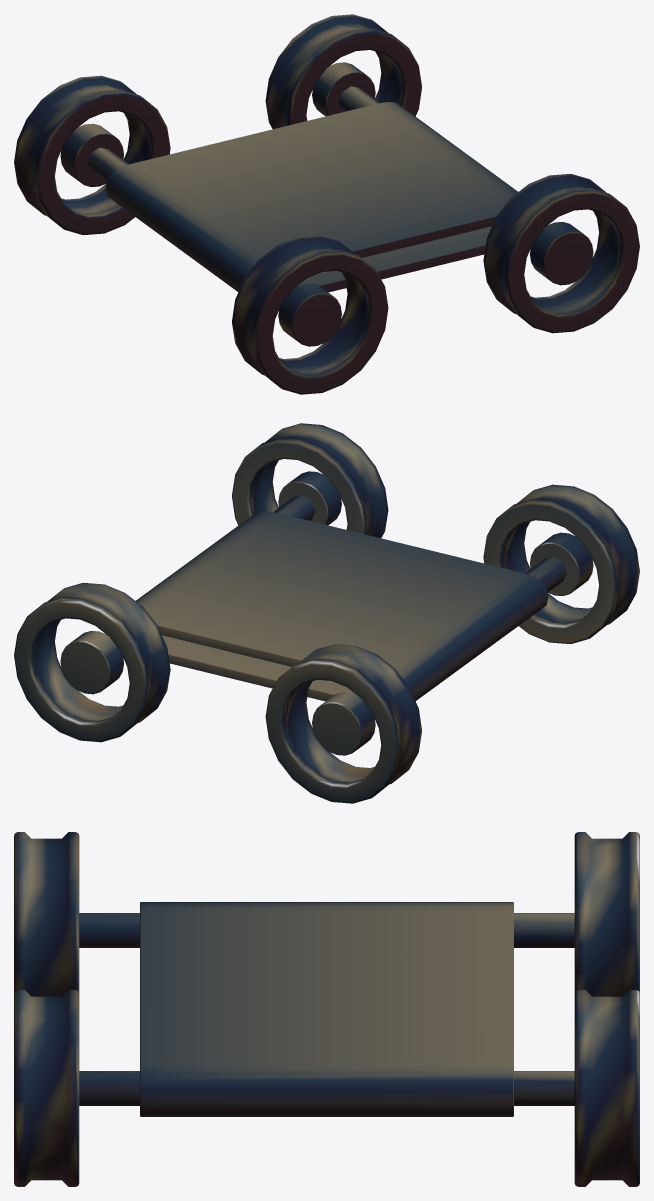
File: Wheels_01.fbx
3 views of the same model, one above another, from view 1: azimuth 30°, elevation 25°; view 2: azimuth 150°, elevation 25°; view 3: azimuth 270°, elevation 25° (orthographic). The views are drawn at different scales.
Visible parts, largest first — view 1: Rail_Wheels; view 2: Rail_Wheels; view 3: Rail_Wheels.
Boxes of the visible parts, x1,y1,x2,y2 form: Rail_Wheels: (14,14,639,394); Rail_Wheels: (14,423,639,803); Rail_Wheels: (14,832,639,1186).
Size of the model in its own units: 153 by 53.09 by 168.
